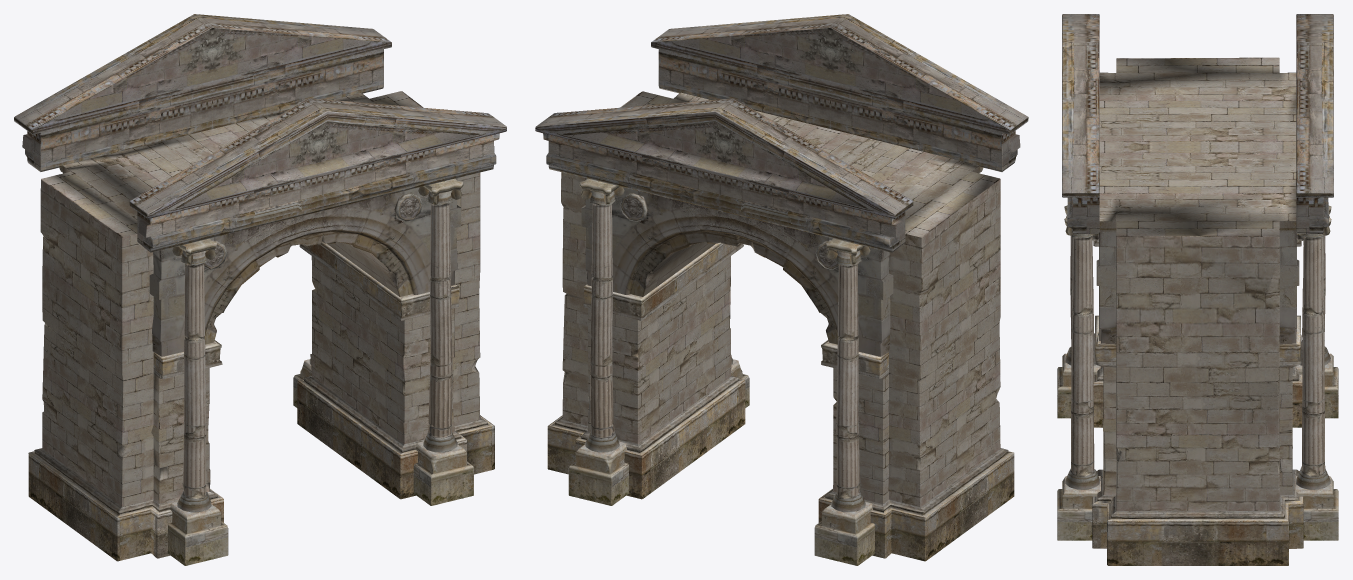
File: Tower11.fbx
3 views of the same model, side by side, from view 1: azimuth 30°, elevation 25°; view 2: azimuth 150°, elevation 25°; view 3: azimuth 270°, elevation 25° (orthographic).
Visible parts, largest first — view 1: LV_Campagna_City_Wall01_SM_EYE; view 2: LV_Campagna_City_Wall01_SM_EYE; view 3: LV_Campagna_City_Wall01_SM_EYE.
Part boxes in pixels (bbox=[...]): LV_Campagna_City_Wall01_SM_EYE: bbox=[14, 14, 506, 565]; LV_Campagna_City_Wall01_SM_EYE: bbox=[535, 14, 1028, 565]; LV_Campagna_City_Wall01_SM_EYE: bbox=[1057, 14, 1338, 565].
Bounding box in the file's own units: 5.23 × 5.54 × 3.3.
